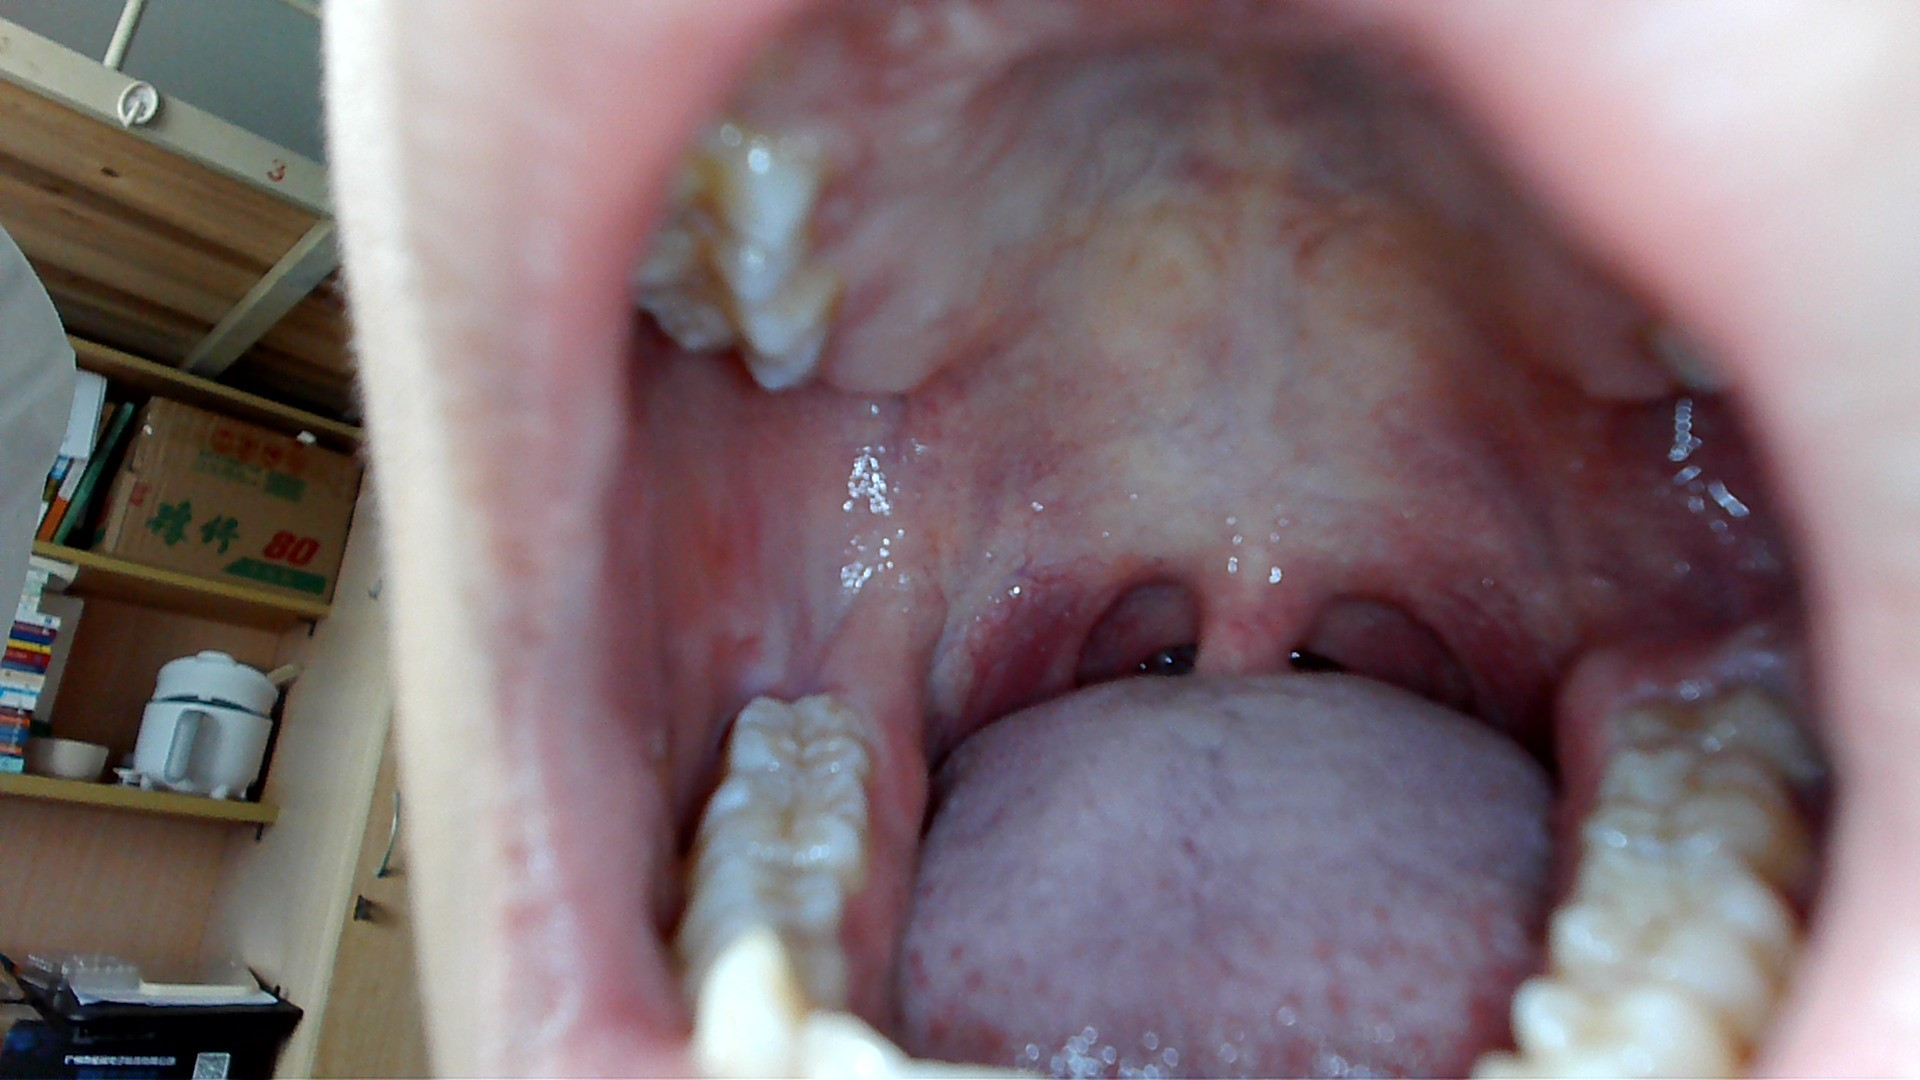throat: (1437, 568, 1553, 732), (990, 556, 1102, 684)
